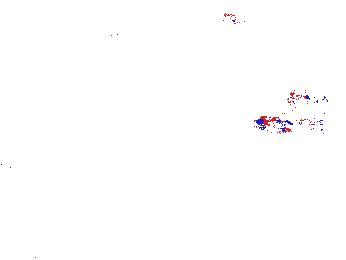X-ray fish: (1, 140, 20, 169)
red belly glassfish: (253, 111, 330, 138), (284, 89, 327, 108), (105, 24, 141, 42), (219, 11, 252, 27)
